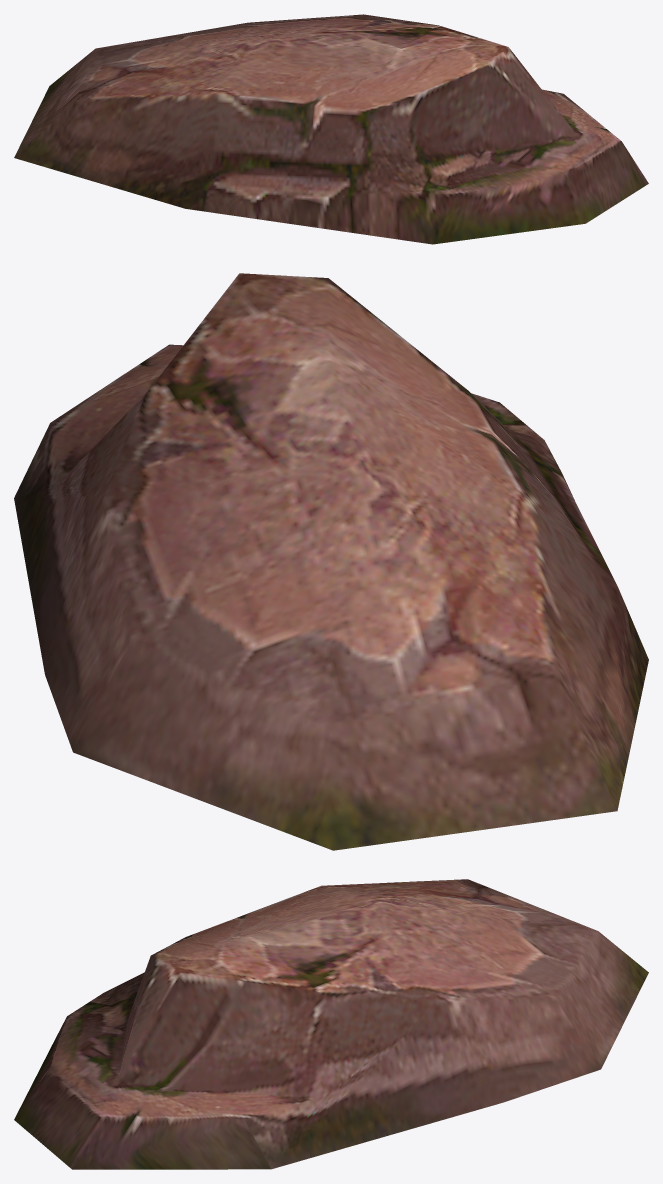
Rendered from yw_huanghunhupan_shitou01.FBX.
3 renders of one model, top to bottom at view 1: azimuth 30°, elevation 25°; view 2: azimuth 150°, elevation 25°; view 3: azimuth 270°, elevation 25°, orthographic. The views are drawn at different scales.
Parts seen in each view (by area): view 1: yw_huanghunhupan_shitou01; view 2: yw_huanghunhupan_shitou01; view 3: yw_huanghunhupan_shitou01.
Part boxes in pixels (bbox=[...]): yw_huanghunhupan_shitou01: bbox=[14, 14, 648, 244]; yw_huanghunhupan_shitou01: bbox=[14, 273, 648, 850]; yw_huanghunhupan_shitou01: bbox=[14, 879, 648, 1169].
Bounding box in the file's own units: 214 × 56.8 × 227.
